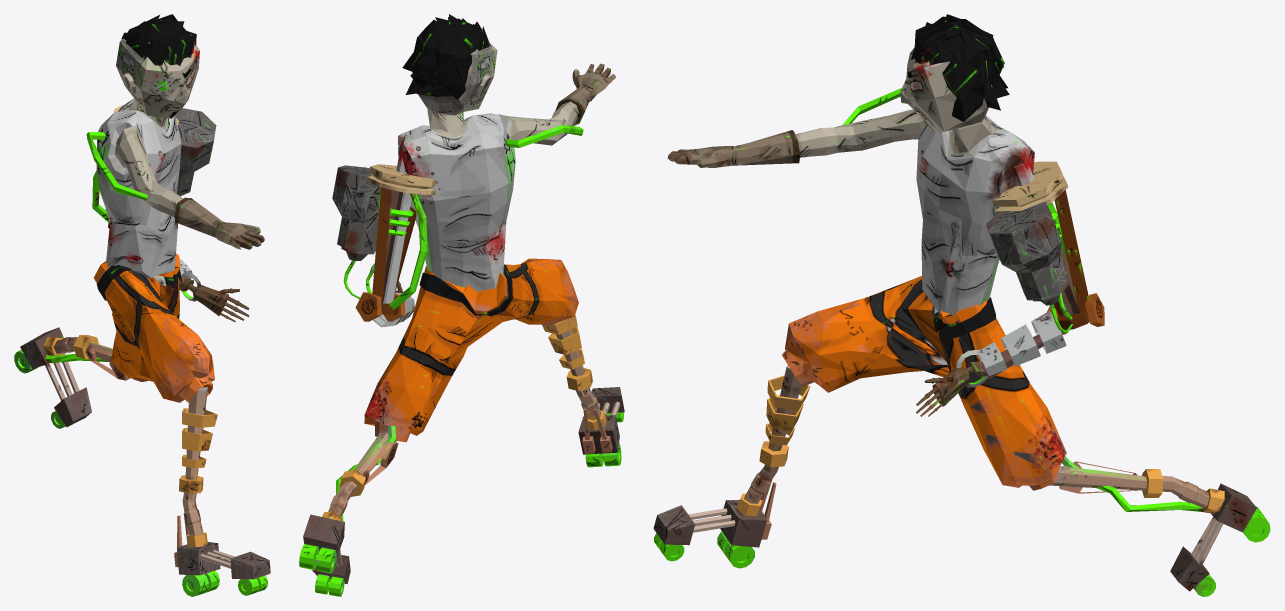
The model's file is CyborgFINALAnimation_000013.obj.
3 views of the same model, side by side, from view 1: azimuth 30°, elevation 25°; view 2: azimuth 150°, elevation 25°; view 3: azimuth 270°, elevation 25° (orthographic). The views are drawn at different scales.
Parts seen in each view (by area): view 1: CyborgMesh_Cube.002; view 2: CyborgMesh_Cube.002; view 3: CyborgMesh_Cube.002.
Boxes of the visible parts, bbox=[...] form: CyborgMesh_Cube.002: bbox=[14, 14, 270, 596]; CyborgMesh_Cube.002: bbox=[299, 14, 624, 596]; CyborgMesh_Cube.002: bbox=[653, 14, 1270, 596].
Size of the model in its own units: 2.98 by 8.35 by 8.16.
